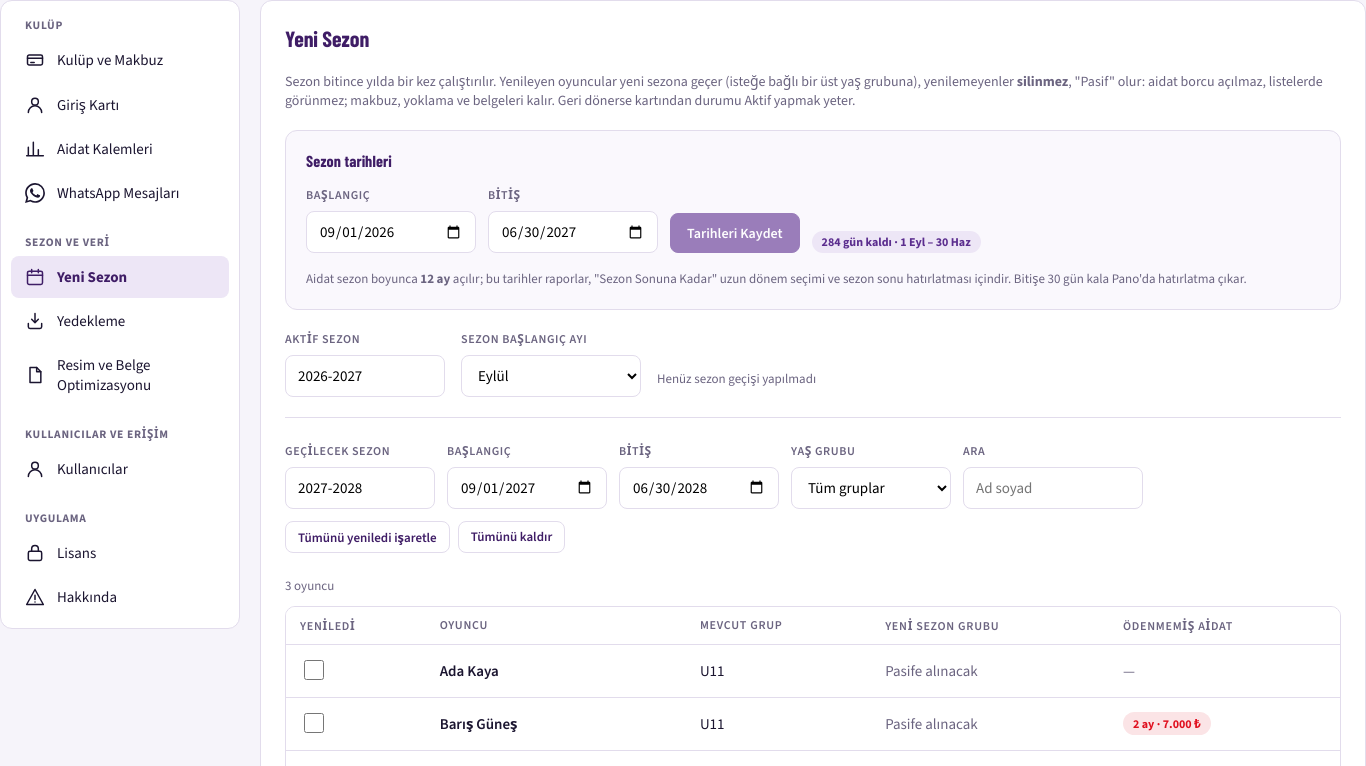
Test: Sezon tarihleri (plan §37) › Ayarlar > Sezon: tarihler görünür, düzenlenip kaydedilir; bitiş başlangıçtan önceyse kaydedilmez
Expected: the date field named "Sezon başlangıcı" holds "2026-09-01", [306,211,476,253]
Expected: the text "284 gün kaldı · 1 Eyl – 30 Haz" is shown, [812,231,981,253]
Type "2026-08-01" into the date field named "Sezon bitişi" at (573,232), box [488,211,658,253]
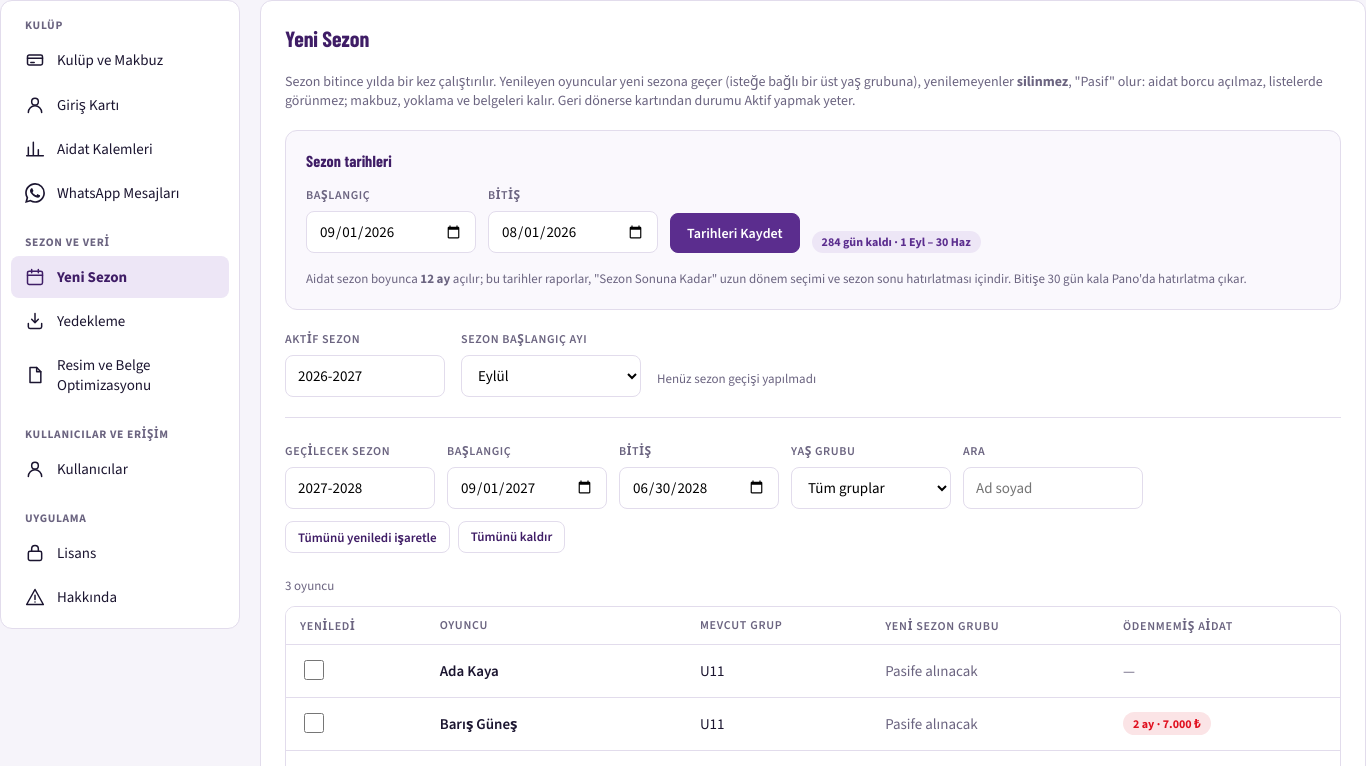
Click the button "Tarihleri Kaydet" at (735,233), box [670,213,800,253]
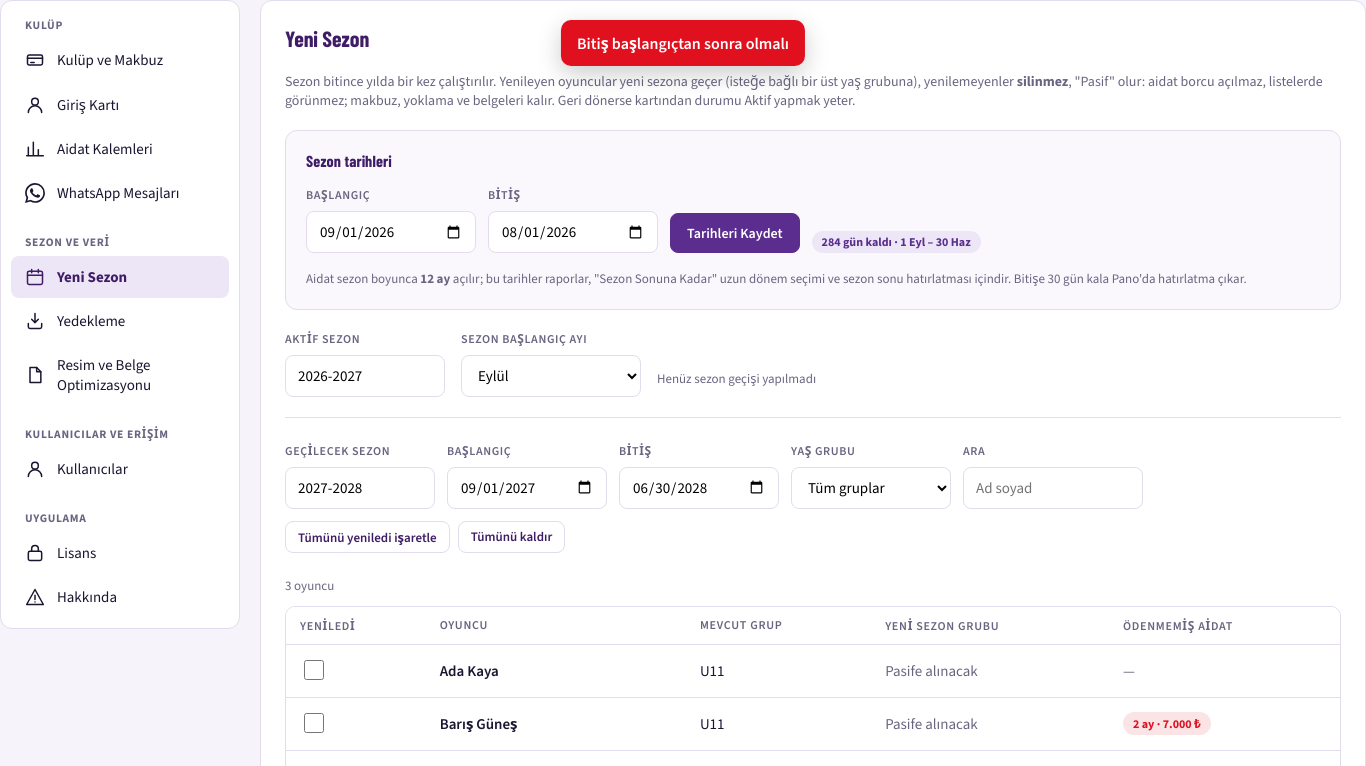
Expected: the text "Bitiş başlangıçtan sonra olmalı" is shown, [561,20,805,66]
Type "2027-08-31" into the date field named "Sezon bitişi" at (573,232), box [488,211,658,253]
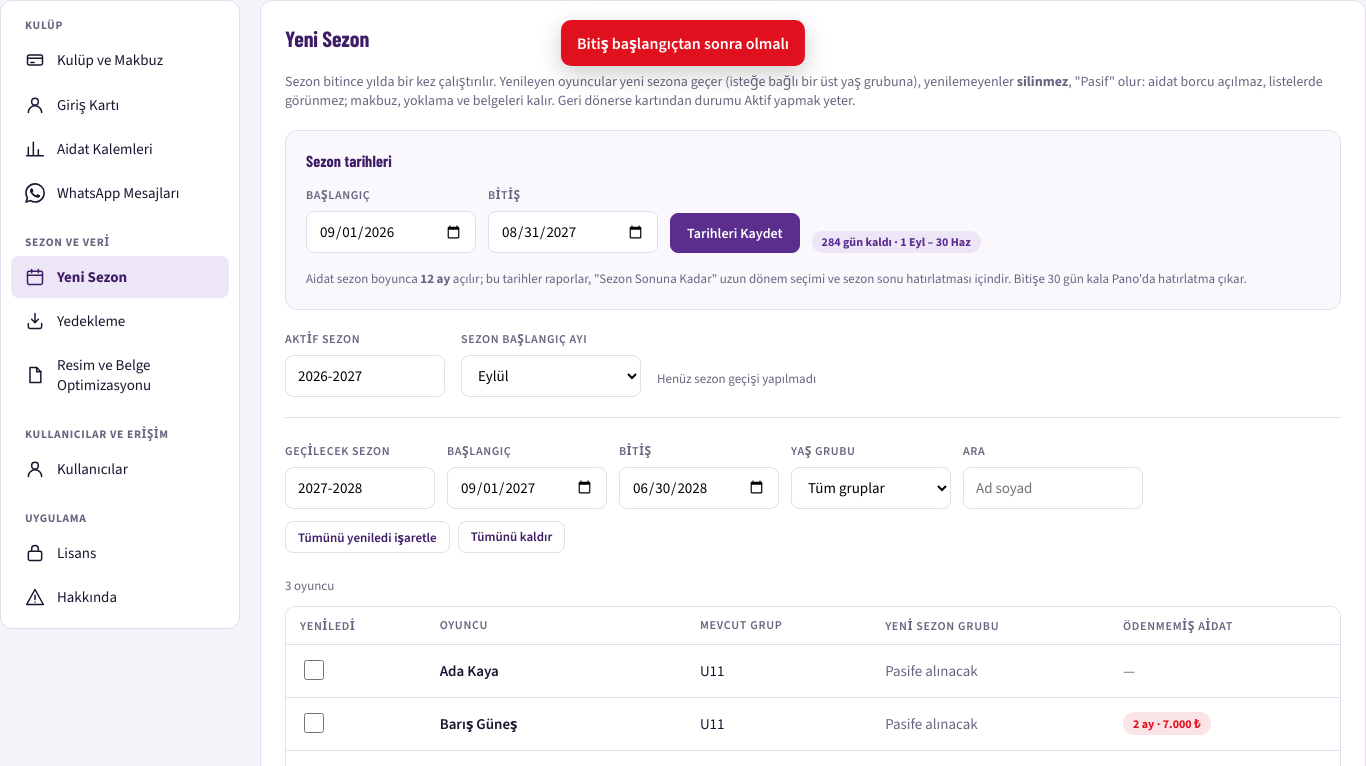
Click the button "Tarihleri Kaydet" at (735,233), box [670,213,800,253]
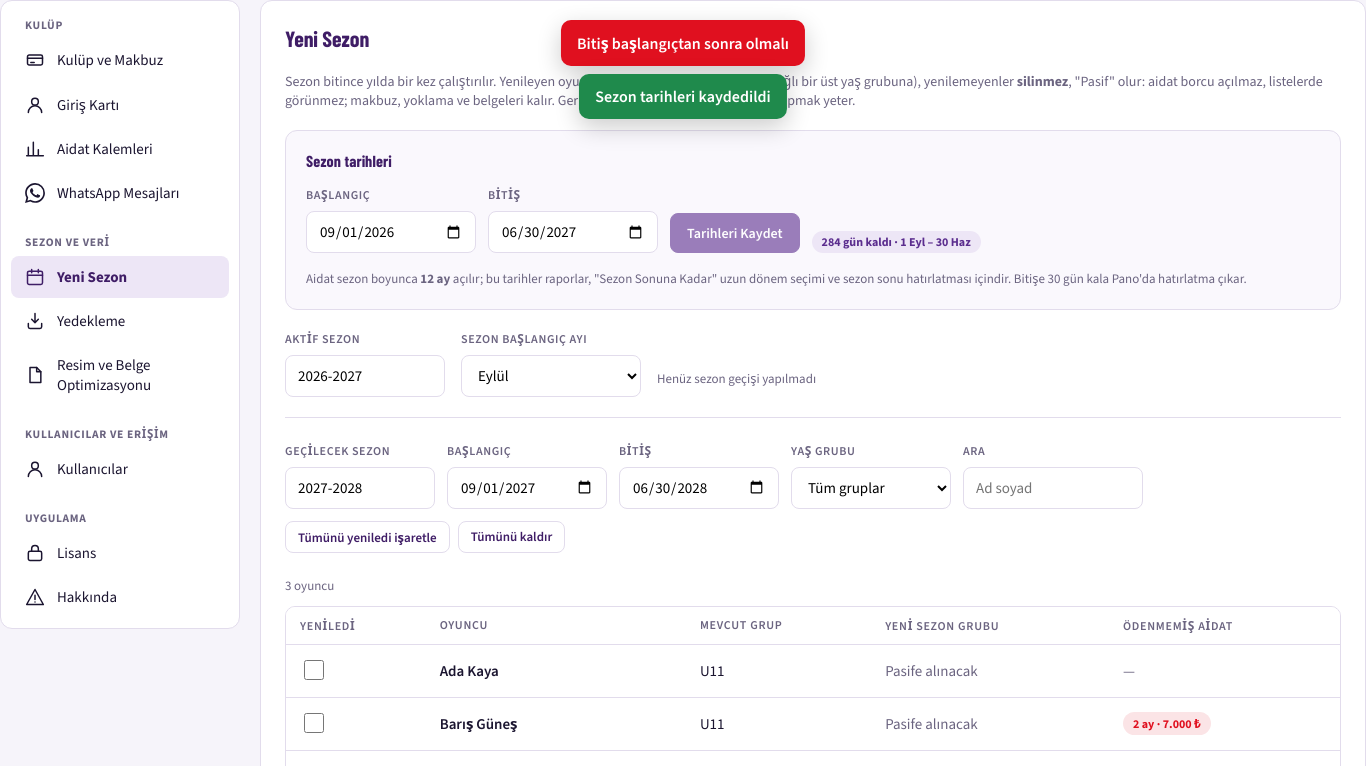
Expected: the text "Sezon tarihleri kaydedildi" is shown, [579,74,787,119]
